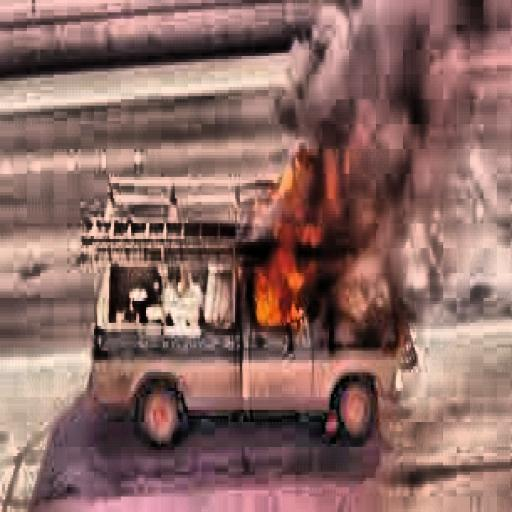fire: (248, 137, 380, 335)
